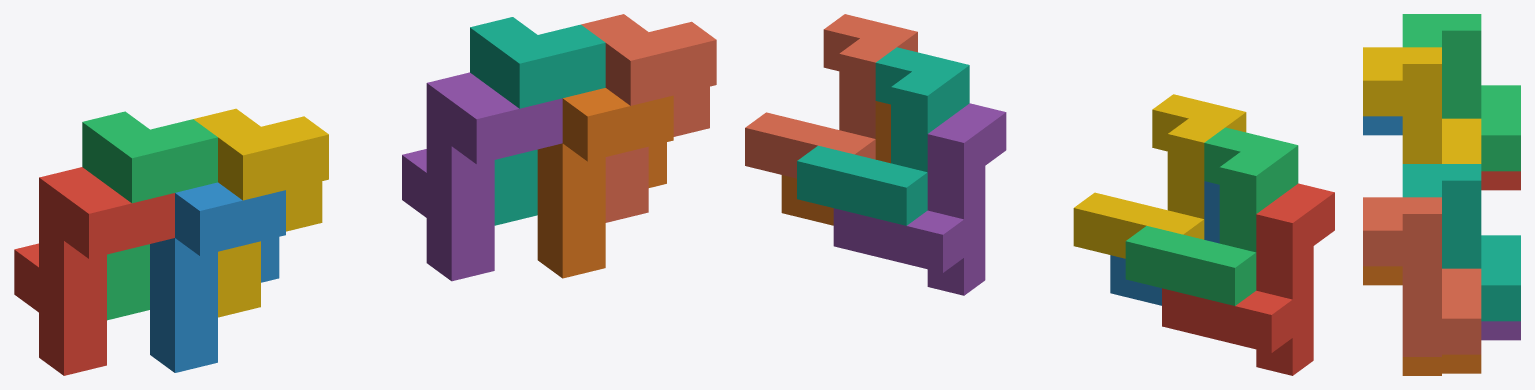
The model's file is tiling.obj.
3 renders of one model, left to right at view 1: azimuth 30°, elevation 25°; view 2: azimuth 150°, elevation 25°; view 3: azimuth 270°, elevation 25°, orthographic. The views are drawn at different scales.
Parts seen in each view (by area): view 1: copy_1_domain_5, copy_1_domain_1, copy_1_domain_6, copy_1_domain_2, copy_1_domain_8, copy_1_domain_4, copy_1_domain_7, copy_1_domain_3; view 2: copy_1_domain_5, copy_1_domain_1, copy_1_domain_3, copy_1_domain_7, copy_1_domain_4, copy_1_domain_8, copy_1_domain_6, copy_1_domain_2; view 3: copy_1_domain_8, copy_1_domain_4, copy_1_domain_3, copy_1_domain_7, copy_1_domain_6, copy_1_domain_1, copy_1_domain_2, copy_1_domain_5.
Boxes of the visible parts, bbox=[...] form: copy_1_domain_5: bbox=[402, 72, 562, 281]; copy_1_domain_1: bbox=[14, 167, 174, 375]; copy_1_domain_6: bbox=[537, 88, 673, 278]; copy_1_domain_2: bbox=[150, 182, 285, 372]; copy_1_domain_8: bbox=[581, 14, 716, 222]; copy_1_domain_4: bbox=[193, 108, 328, 317]; copy_1_domain_7: bbox=[470, 17, 605, 225]; copy_1_domain_3: bbox=[82, 111, 217, 320]; copy_1_domain_5: bbox=[833, 103, 1006, 295]; copy_1_domain_1: bbox=[1162, 183, 1334, 375]; copy_1_domain_3: bbox=[1125, 127, 1298, 305]; copy_1_domain_7: bbox=[797, 47, 969, 225]; copy_1_domain_4: bbox=[1073, 94, 1246, 258]; copy_1_domain_8: bbox=[745, 14, 917, 178]; copy_1_domain_6: bbox=[781, 101, 890, 225]; copy_1_domain_2: bbox=[1110, 181, 1219, 305]; copy_1_domain_8: bbox=[1363, 197, 1481, 356]; copy_1_domain_4: bbox=[1363, 47, 1481, 163]; copy_1_domain_3: bbox=[1402, 14, 1520, 171]; copy_1_domain_7: bbox=[1402, 164, 1520, 321]; copy_1_domain_6: bbox=[1363, 266, 1481, 375]; copy_1_domain_1: bbox=[1481, 171, 1520, 190]; copy_1_domain_2: bbox=[1363, 116, 1402, 135]; copy_1_domain_5: bbox=[1481, 321, 1520, 340].
Size of the model in its own units: 15 by 5 by 4.
